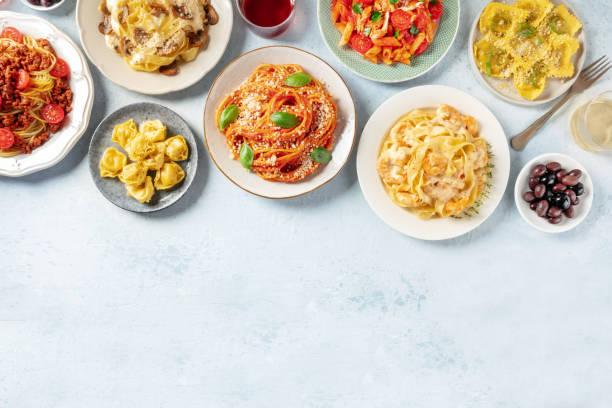Braised Crucian Carp: (355, 82, 510, 242), (203, 44, 355, 200), (0, 8, 98, 177), (78, 0, 237, 96), (88, 100, 205, 216), (468, 0, 584, 107), (320, 3, 465, 82)
